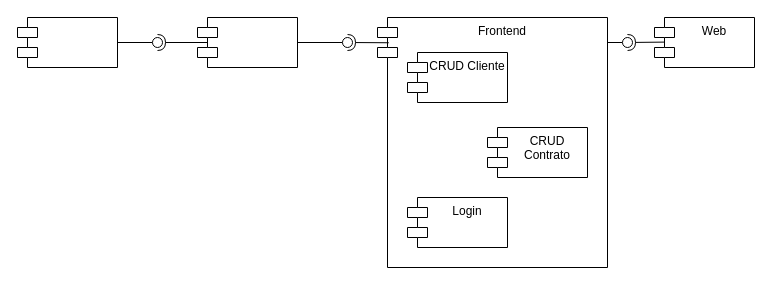
Some shapes in this 772 by 285 pixel diagram are drawn without their labels. Each missing label, with the centre of its shape:
"Backend" belongs at point 247,42.
"SGBD" belongs at point 67,42.
